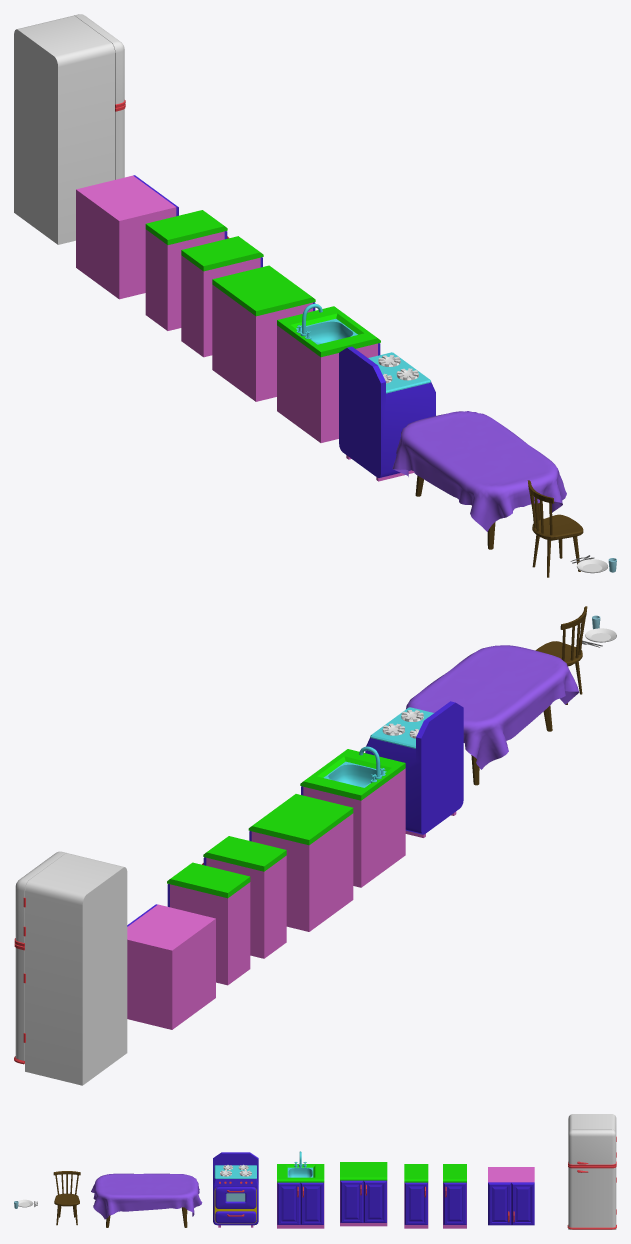
The model's file is Kitchen Props.fbx.
3 views of the same model, one above another, from view 1: azimuth 30°, elevation 25°; view 2: azimuth 150°, elevation 25°; view 3: azimuth 270°, elevation 25° (orthographic). The views are drawn at different scales.
Visible parts, largest first — view 1: Fridge, Table_Cloth, Cabinet_Bottom, Stove, Sink_Cabinet, Cabinet_Top, Cabinet_Bottom_half1, Cabinet_Bottom_half2, Chair, Fridge_Door_Top; view 2: Fridge, Table_Cloth, Cabinet_Top, Cabinet_Bottom, Sink_Cabinet, Stove, Cabinet_Bottom_half1, Cabinet_Bottom_half2, Chair, Fridge_Door_Bottom, Fridge_Door_Top; view 3: Table_Cloth, Fridge_Door_Bottom, Stove, Fridge_Door_Top, Cabinet_Bottom, Sink_Cabinet, Cabinet_Top_Right_Door, Cabinet_Top_Left_Door, Cabinet_Right_Door, Sink_Right_Door, Cabinet_Bottom_half1_ Door, Cabinet_Left_Door (+10 smaller).
Part boxes in pixels (x1=…): Fridge: x1=14, y1=15, x2=114, y2=244; Table_Cloth: x1=392, y1=411, x2=566, y2=531; Cabinet_Bottom: x1=212, y1=265, x2=315, y2=401; Stove: x1=339, y1=346, x2=435, y2=481; Sink_Cabinet: x1=277, y1=306, x2=380, y2=442; Cabinet_Top: x1=76, y1=175, x2=176, y2=299; Cabinet_Bottom_half1: x1=145, y1=210, x2=227, y2=330; Cabinet_Bottom_half2: x1=181, y1=236, x2=263, y2=357; Chair: x1=527, y1=480, x2=583, y2=577; Fridge_Door_Top: x1=74, y1=14, x2=125, y2=107; Fridge: x1=25, y1=853, x2=127, y2=1085; Table_Cloth: x1=406, y1=645, x2=578, y2=769; Cabinet_Top: x1=127, y1=904, x2=215, y2=1029; Cabinet_Bottom: x1=248, y1=794, x2=353, y2=931; Sink_Cabinet: x1=300, y1=749, x2=405, y2=887; Stove: x1=365, y1=701, x2=463, y2=837; Cabinet_Bottom_half1: x1=167, y1=862, x2=250, y2=985; Cabinet_Bottom_half2: x1=203, y1=836, x2=286, y2=958; Chair: x1=535, y1=606, x2=587, y2=704; Fridge_Door_Bottom: x1=14, y1=943, x2=25, y2=1064; Fridge_Door_Top: x1=14, y1=851, x2=66, y2=946; Table_Cloth: x1=91, y1=1173, x2=202, y2=1219; Fridge_Door_Bottom: x1=567, y1=1165, x2=616, y2=1229; Stove: x1=213, y1=1152, x2=258, y2=1227; Fridge_Door_Top: x1=568, y1=1129, x2=616, y2=1166; Cabinet_Bottom: x1=340, y1=1162, x2=387, y2=1226; Sink_Cabinet: x1=277, y1=1164, x2=324, y2=1228; Cabinet_Top_Right_Door: x1=511, y1=1182, x2=534, y2=1225; Cabinet_Top_Left_Door: x1=488, y1=1182, x2=511, y2=1225; Cabinet_Right_Door: x1=340, y1=1180, x2=363, y2=1222; Sink_Right_Door: x1=277, y1=1182, x2=300, y2=1224; Cabinet_Bottom_half1_ Door: x1=443, y1=1182, x2=466, y2=1224; Cabinet_Left_Door: x1=363, y1=1180, x2=386, y2=1222.
Size of the model in its own units: 106 by 178 by 962.
